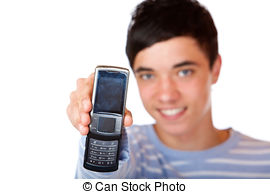face: (122, 1, 225, 135)
